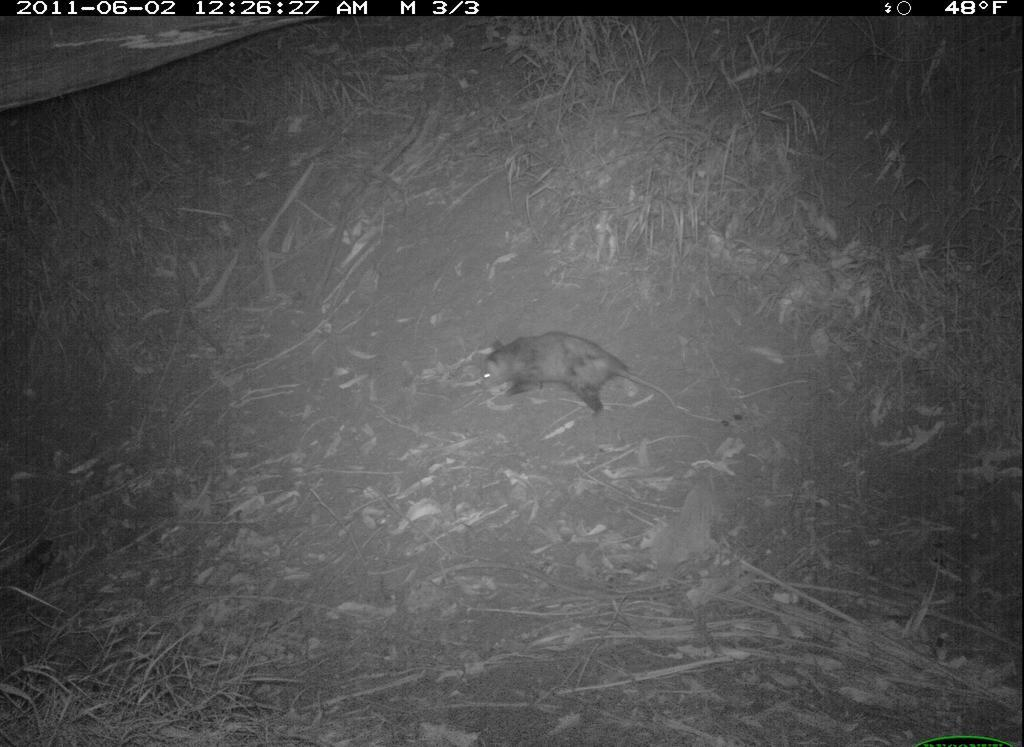opossum: (469, 329, 722, 441)
